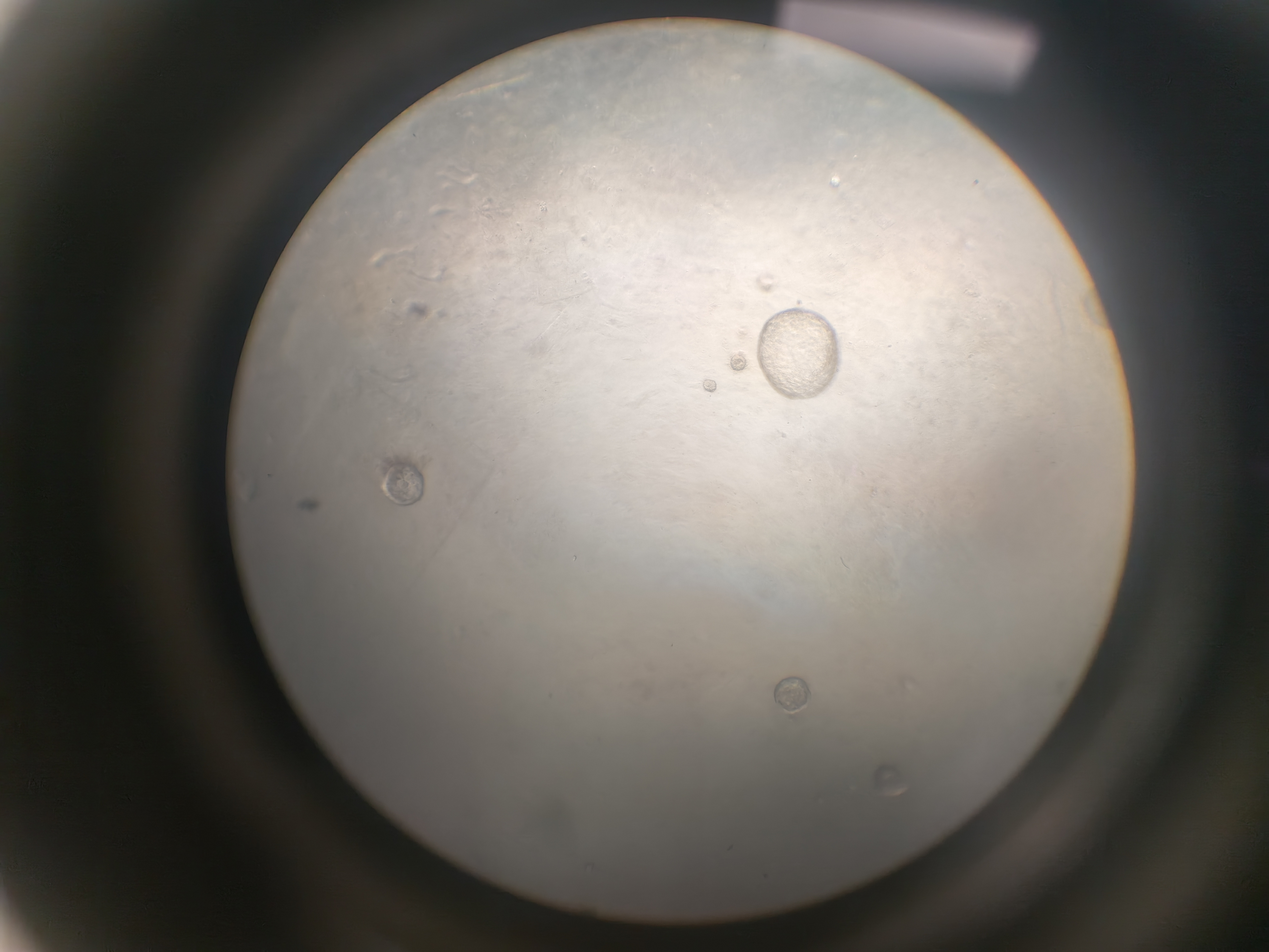organoid: (726, 423, 800, 474)
